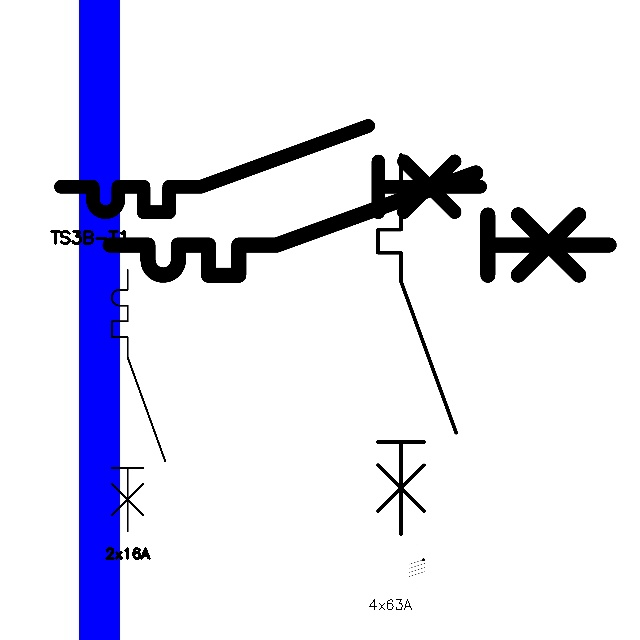interruptor_termomagnetico: (97, 160, 622, 288), (50, 115, 491, 223), (368, 145, 465, 544), (105, 263, 172, 538)
